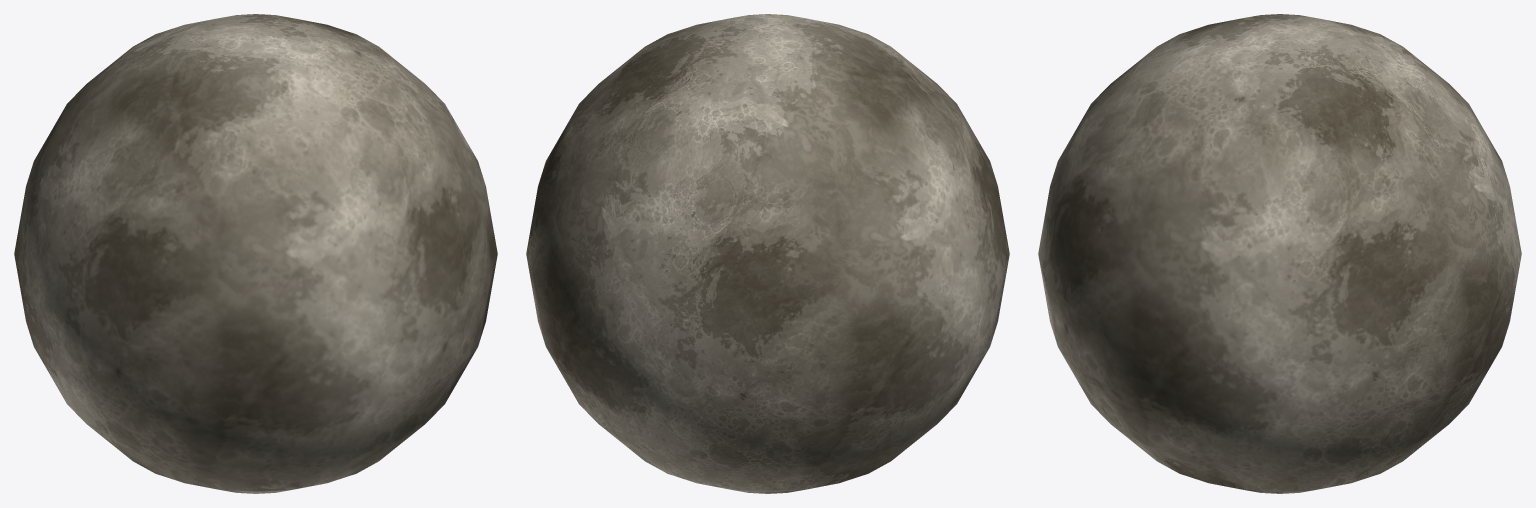
File: sb_obj_map001_moon.fbx
The picture shows the model from 3 angles, left to right: view 1: azimuth 30°, elevation 25°; view 2: azimuth 150°, elevation 25°; view 3: azimuth 270°, elevation 25°; orthographic projection.
Parts seen in each view (by area): view 1: sb_obj_map001_moon; view 2: sb_obj_map001_moon; view 3: sb_obj_map001_moon.
Part boxes in pixels (x1,y1,x2,y2): sb_obj_map001_moon: [14, 14, 497, 493]; sb_obj_map001_moon: [526, 14, 1009, 493]; sb_obj_map001_moon: [1038, 14, 1521, 493].
Size of the model in its own units: 2 by 2 by 2.
